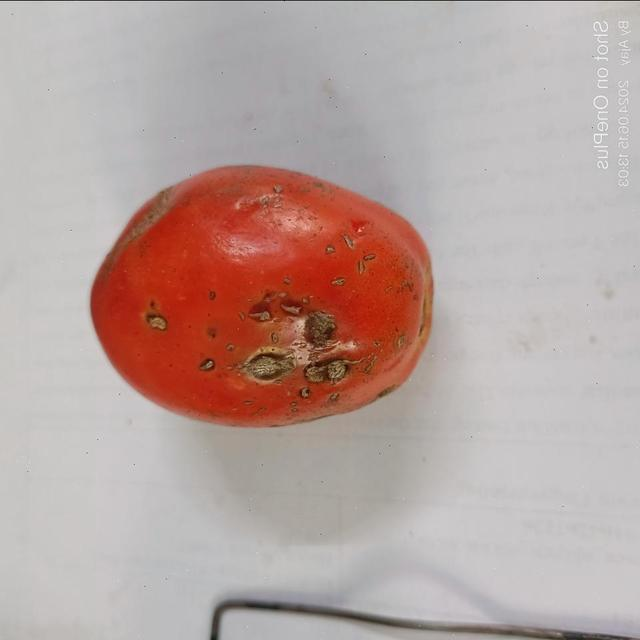Bacterial Spot Fruit: (5, 4, 267, 261)
